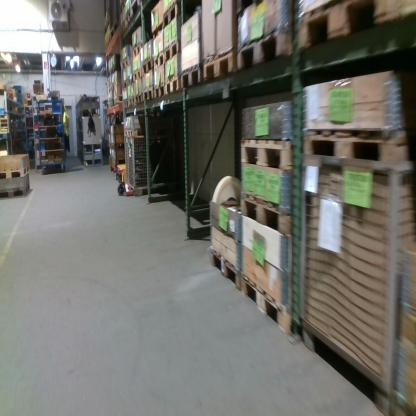pallet: (299, 124, 413, 167), (241, 265, 299, 341), (233, 27, 295, 83), (239, 187, 291, 237), (240, 139, 292, 170), (296, 4, 329, 50), (211, 245, 242, 288), (201, 49, 237, 82), (179, 62, 204, 91), (0, 163, 30, 182), (0, 182, 31, 200), (163, 1, 181, 29), (163, 37, 180, 64), (166, 76, 185, 99), (141, 56, 156, 78), (123, 128, 148, 140), (152, 48, 165, 71), (154, 80, 166, 103), (143, 85, 155, 108), (132, 67, 143, 83), (136, 42, 145, 61), (113, 94, 123, 109), (123, 55, 133, 68), (110, 65, 120, 78), (136, 91, 144, 106), (121, 20, 127, 33), (129, 98, 135, 109), (124, 99, 129, 111), (111, 82, 117, 89)
pallet_truck: (108, 107, 134, 197)
stillage: (296, 147, 415, 414), (127, 131, 180, 198), (108, 2, 122, 38), (123, 132, 129, 187)
